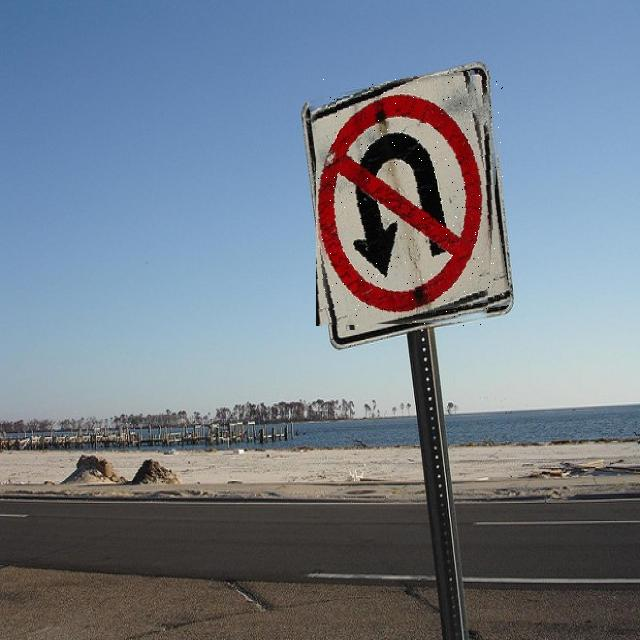no u turn: (316, 76, 503, 326)
